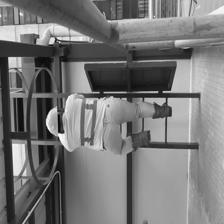Feet: (125, 124, 159, 155), (142, 91, 180, 112)
Ladder: (26, 80, 209, 164)
